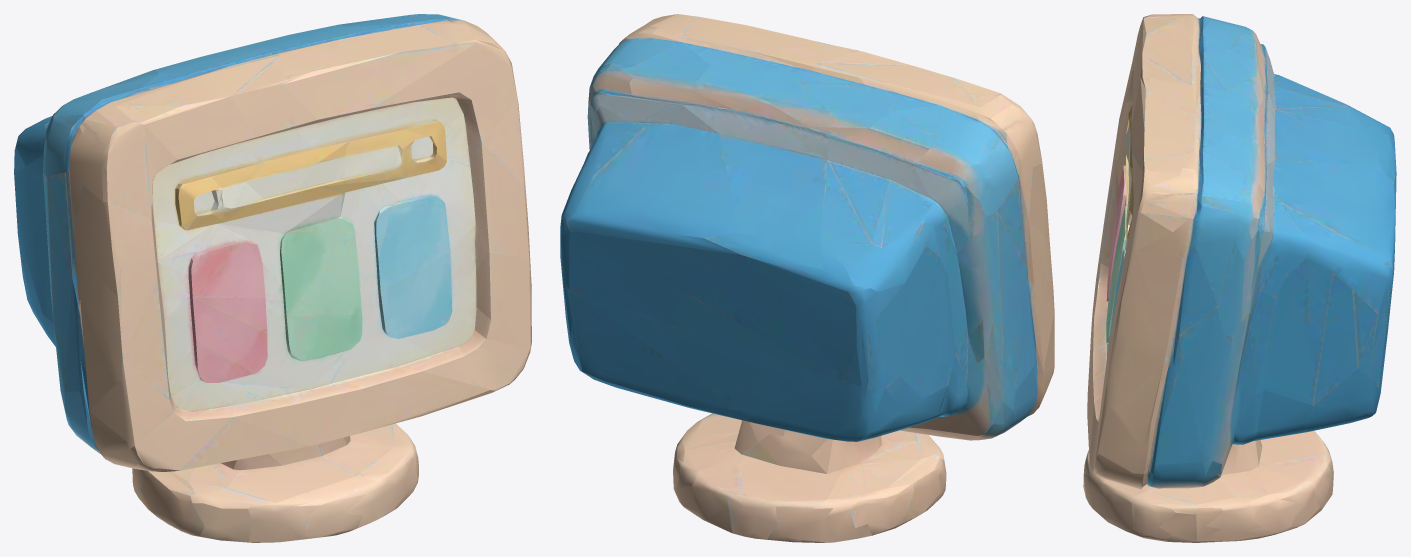
The model's file is monitor.glb.
3 renders of one model, left to right at view 1: azimuth 30°, elevation 25°; view 2: azimuth 150°, elevation 25°; view 3: azimuth 270°, elevation 25°, orthographic. The views are drawn at different scales.
Bounding box in the file's own units: 1.9 × 1.85 × 1.29.
1 material, 1 textured.
